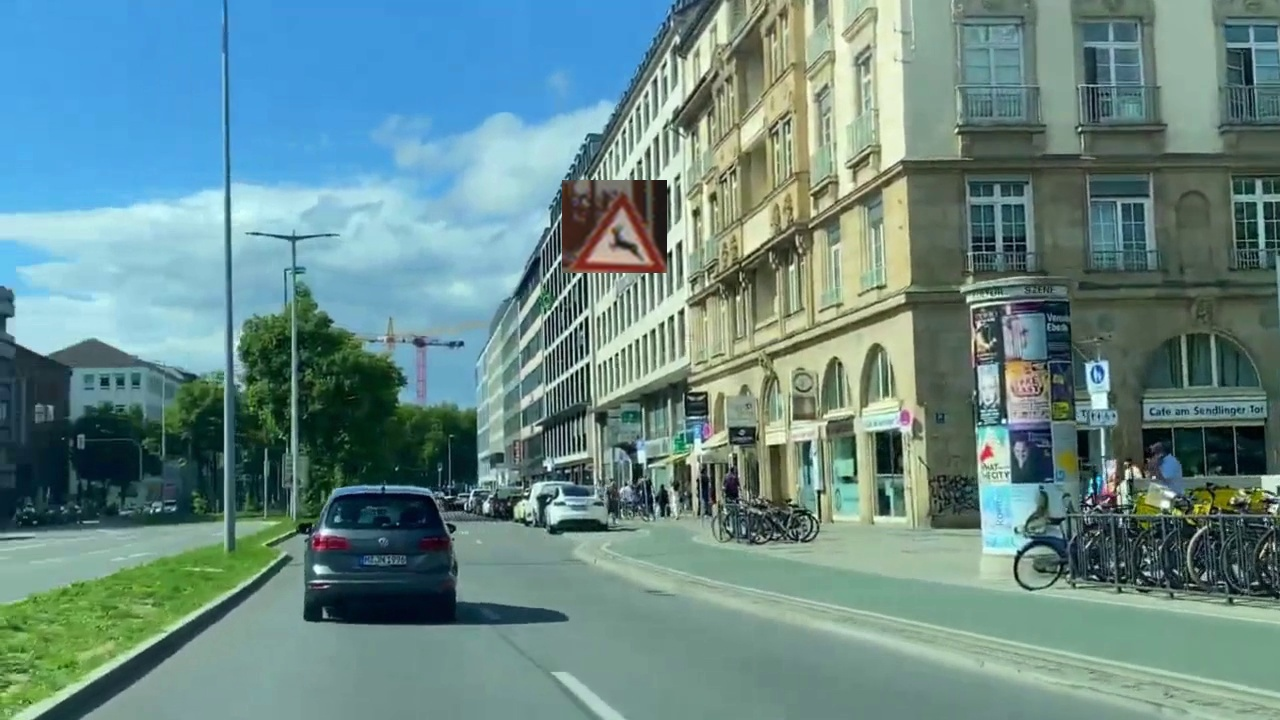Wild animals: (562, 180, 667, 273)
